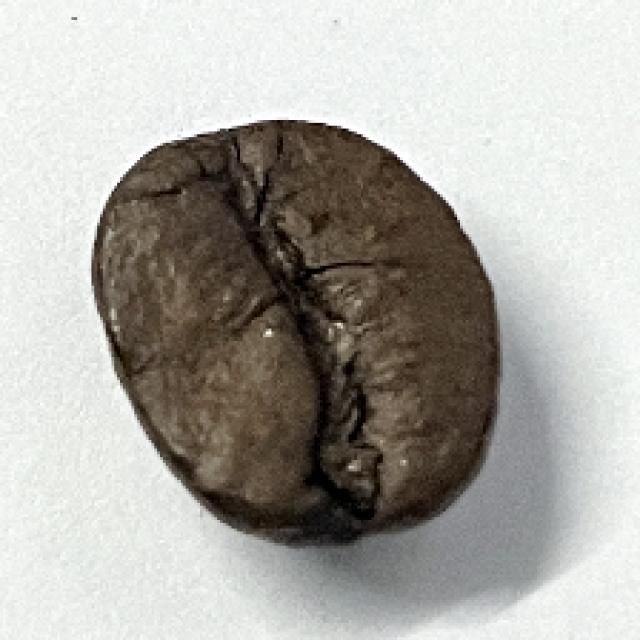bean: (90, 121, 503, 546)
